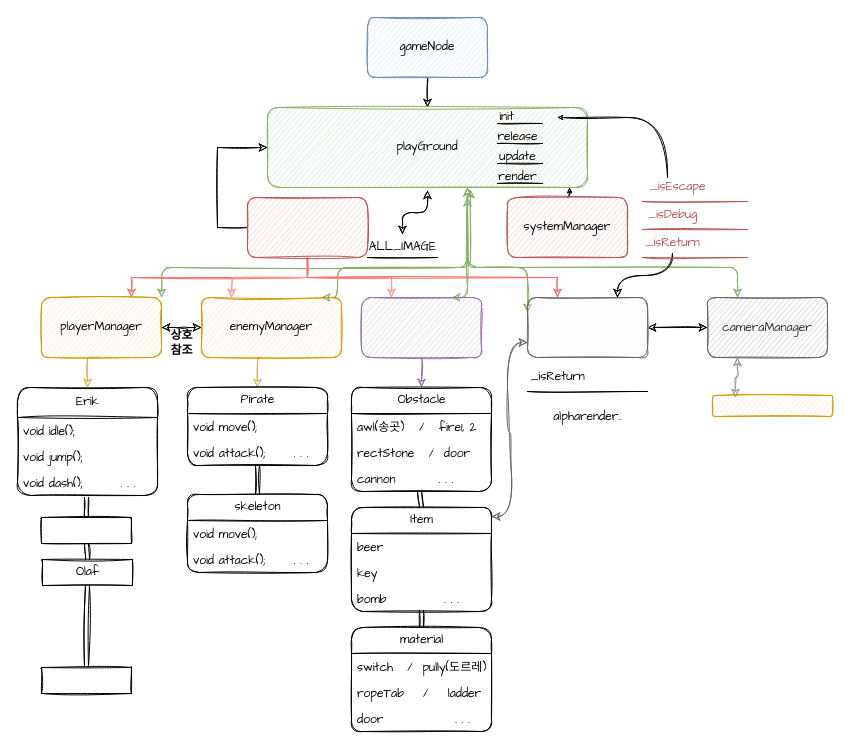
Image size: 850x752. Some labels were removed from this diagram. Each missing label, with the centre of its shape:
*playerManager: [772,405]
Bealog: [86,530]
HUDManager: [587,327]
imageManager: [307,227]
NPC: [86,680]
objectManager: [421,327]
